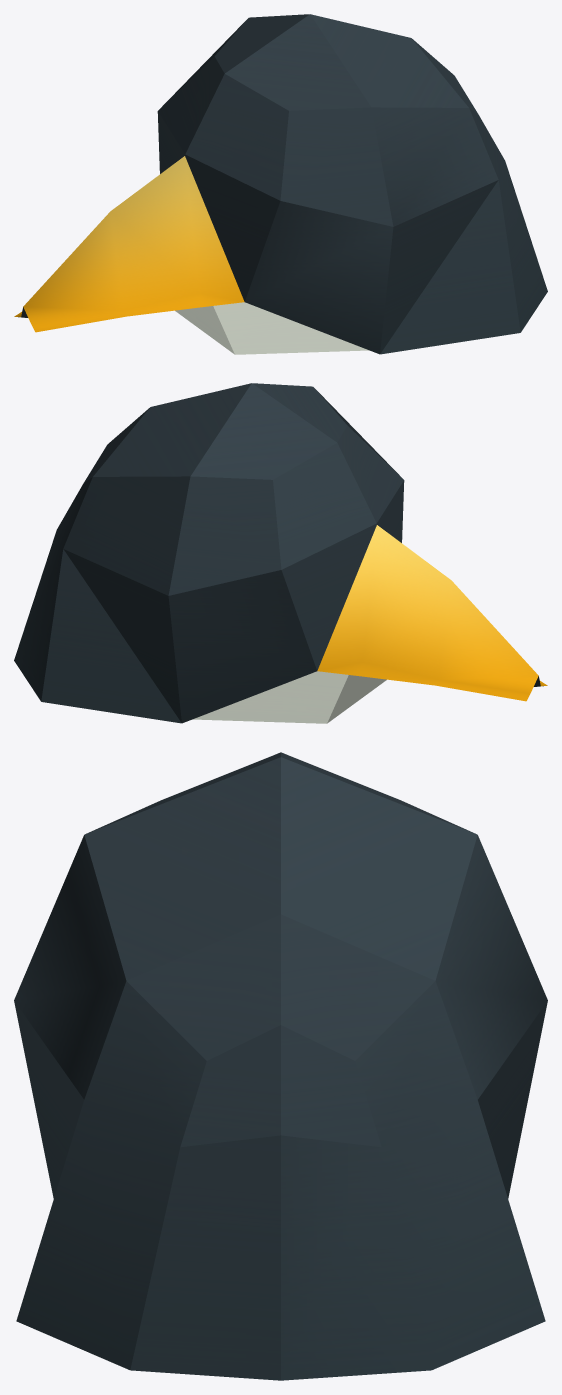
The model's file is SM_Pinguin_Head.fbx.
3 renders of one model, top to bottom at view 1: azimuth 30°, elevation 25°; view 2: azimuth 150°, elevation 25°; view 3: azimuth 270°, elevation 25°, orthographic. The views are drawn at different scales.
Parts seen in each view (by area): view 1: SM_Pinguin_Head; view 2: SM_Pinguin_Head; view 3: SM_Pinguin_Head.
Part boxes in pixels (x1=…): SM_Pinguin_Head: x1=14, y1=14, x2=547, y2=354; SM_Pinguin_Head: x1=14, y1=383, x2=547, y2=723; SM_Pinguin_Head: x1=14, y1=752, x2=547, y2=1380.
Bounding box in the file's own units: 32.89 × 18.54 × 19.33.
